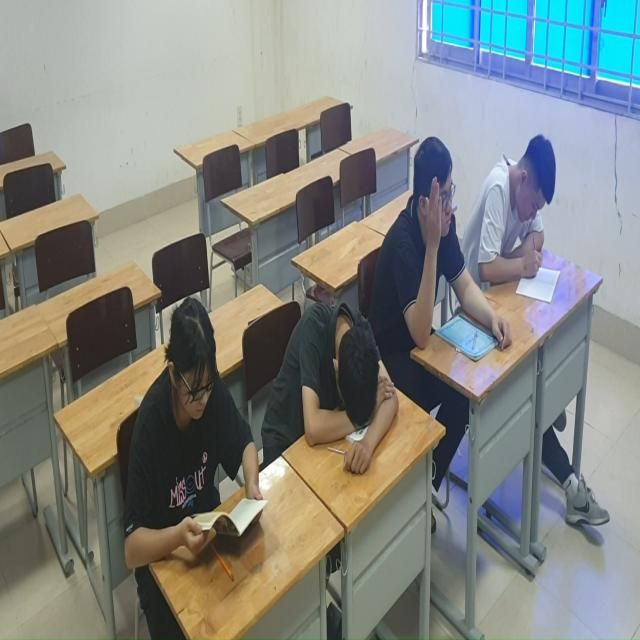raise_hand: (392, 135, 474, 348)
read: (120, 273, 269, 577), (476, 132, 565, 316)
sleep: (274, 289, 400, 483)
